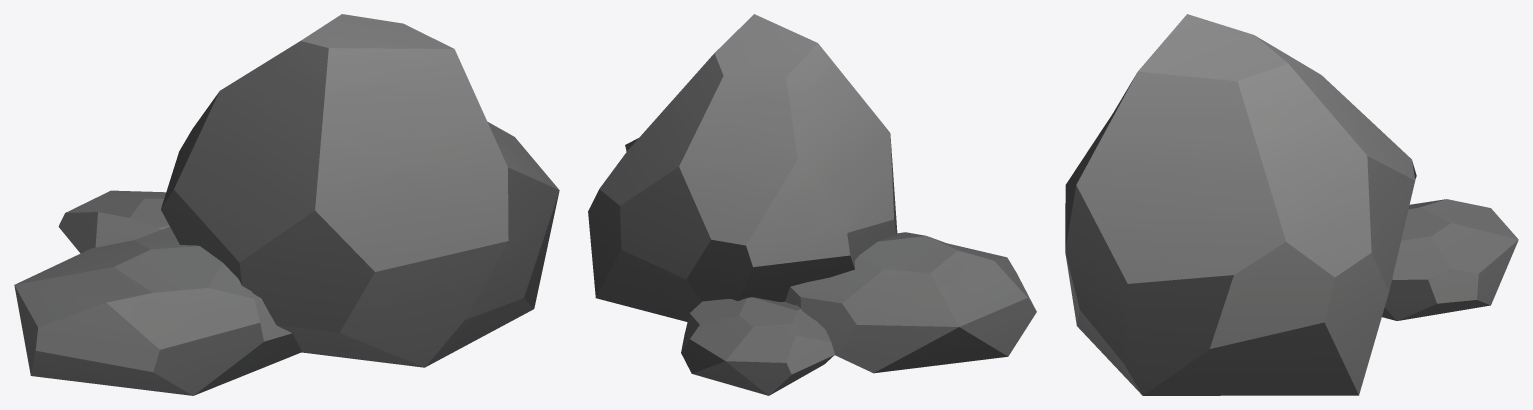
The model's file is Rock003.fbx.
3 renders of one model, left to right at view 1: azimuth 30°, elevation 25°; view 2: azimuth 150°, elevation 25°; view 3: azimuth 270°, elevation 25°, orthographic. The views are drawn at different scales.
Parts seen in each view (by area): view 1: Icosphere.006; view 2: Icosphere.006; view 3: Icosphere.006.
Boxes of the visible parts, x1,y1,x2,y2 form: Icosphere.006: (14,14,559,395); Icosphere.006: (588,14,1036,395); Icosphere.006: (1065,14,1518,395).
Bounding box in the file's own units: 198 × 112 × 158.
